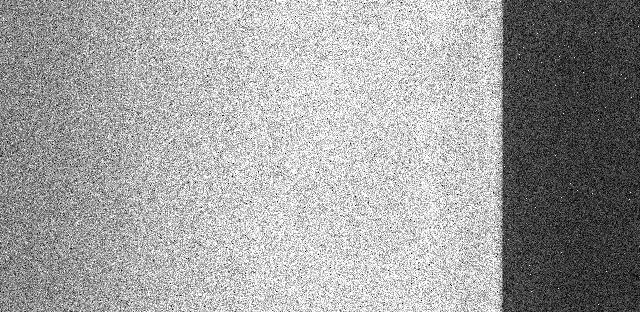silk_spot: (215, 14, 354, 300)
